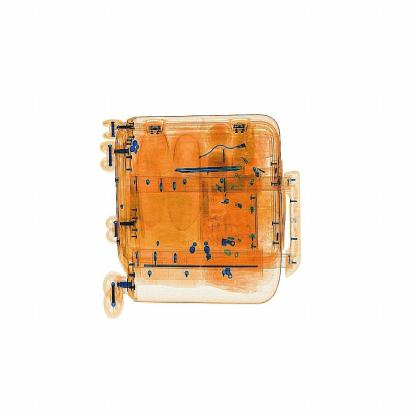pliers: (169, 155, 246, 189)
